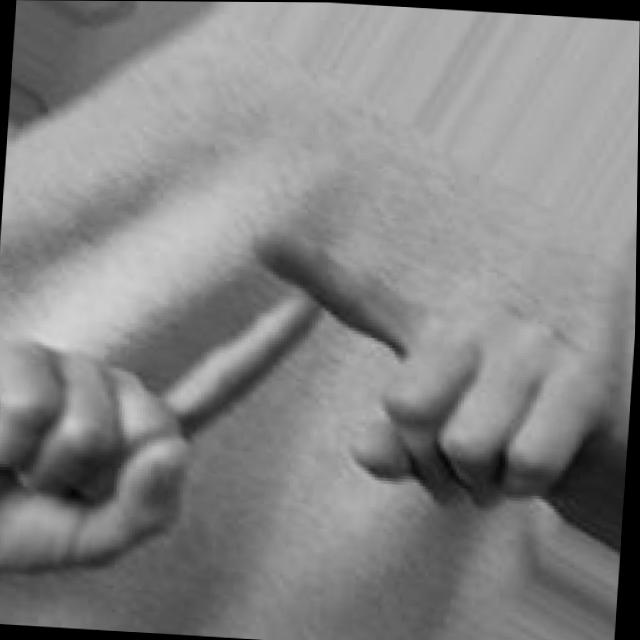T: (0, 182, 637, 640)
